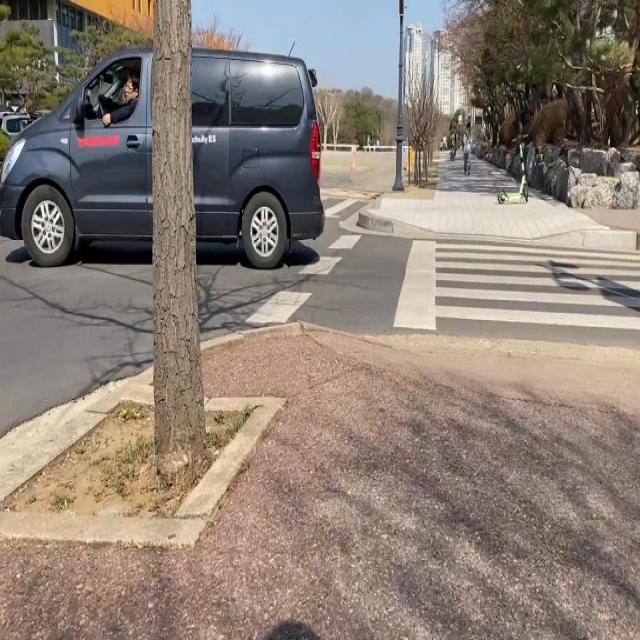sidewalk: (0, 332, 640, 639)
